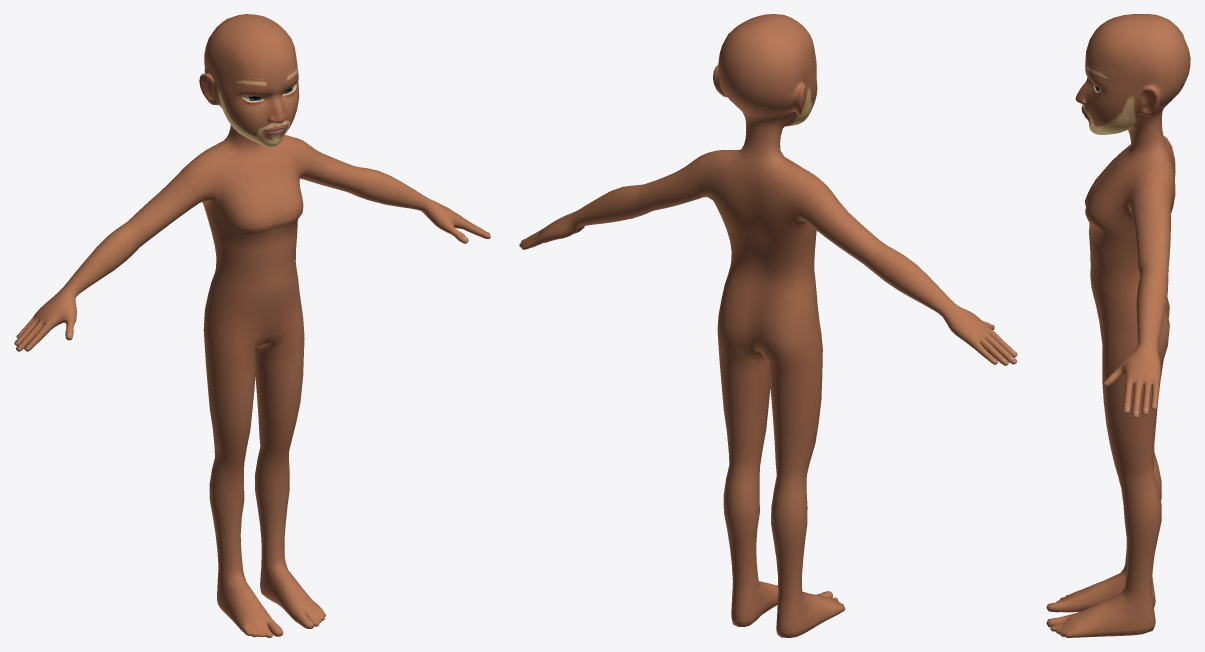
Rendered from frame_0066.glb.
3 renders of one model, left to right at view 1: azimuth 30°, elevation 25°; view 2: azimuth 150°, elevation 25°; view 3: azimuth 270°, elevation 25°, orthographic. The views are drawn at different scales.
Visible parts, largest first — view 1: frame_0066_head_geo; view 2: frame_0066_head_geo; view 3: frame_0066_head_geo.
Boxes of the visible parts, bbox=[...] form: frame_0066_head_geo: bbox=[14, 14, 490, 637]; frame_0066_head_geo: bbox=[519, 14, 1017, 637]; frame_0066_head_geo: bbox=[1046, 14, 1190, 637].
Bounding box in the file's own units: 1.28 × 1.5 × 0.3253.
3 materials, 3 textured.
